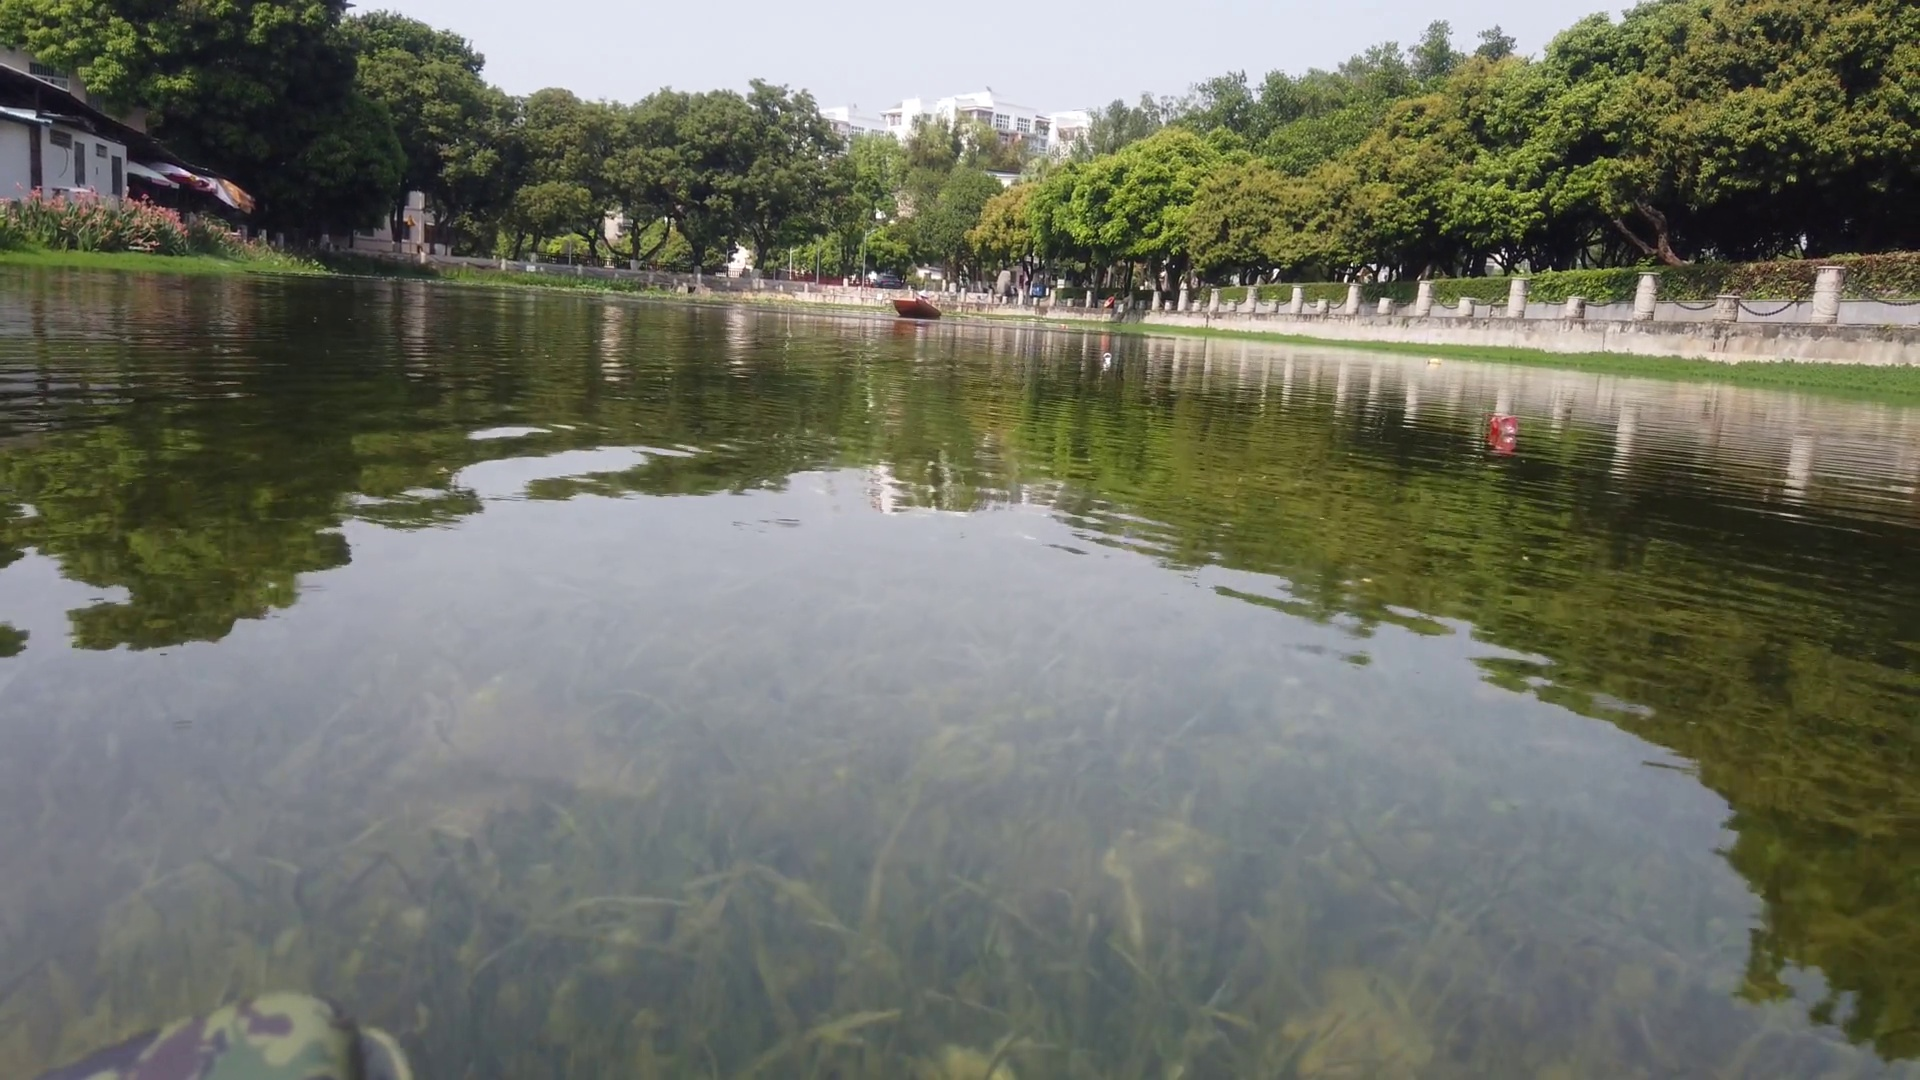bottle: (1487, 407, 1524, 435), (1102, 348, 1112, 361), (1425, 356, 1437, 365)
